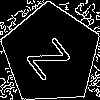Z: (26, 29, 79, 82)
